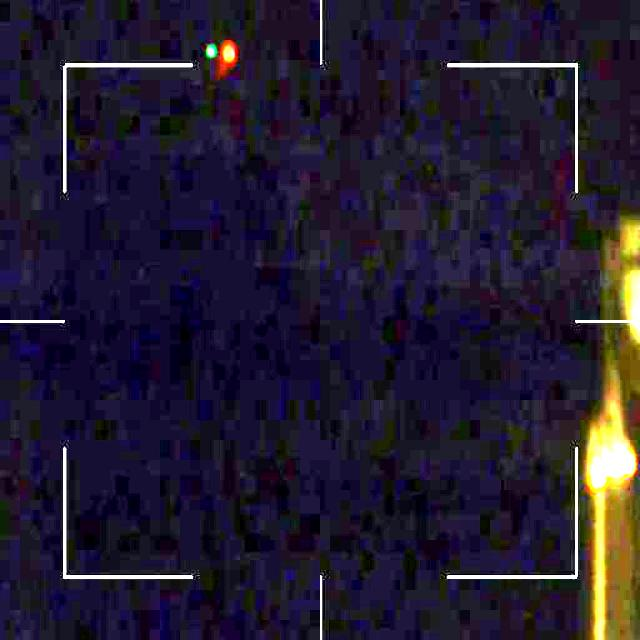bird: (206, 39, 238, 71)
